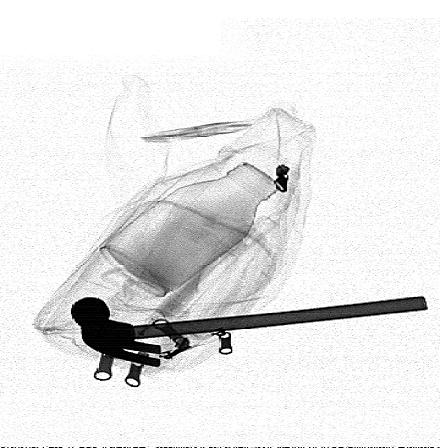Hammer: (70, 295, 430, 368)
